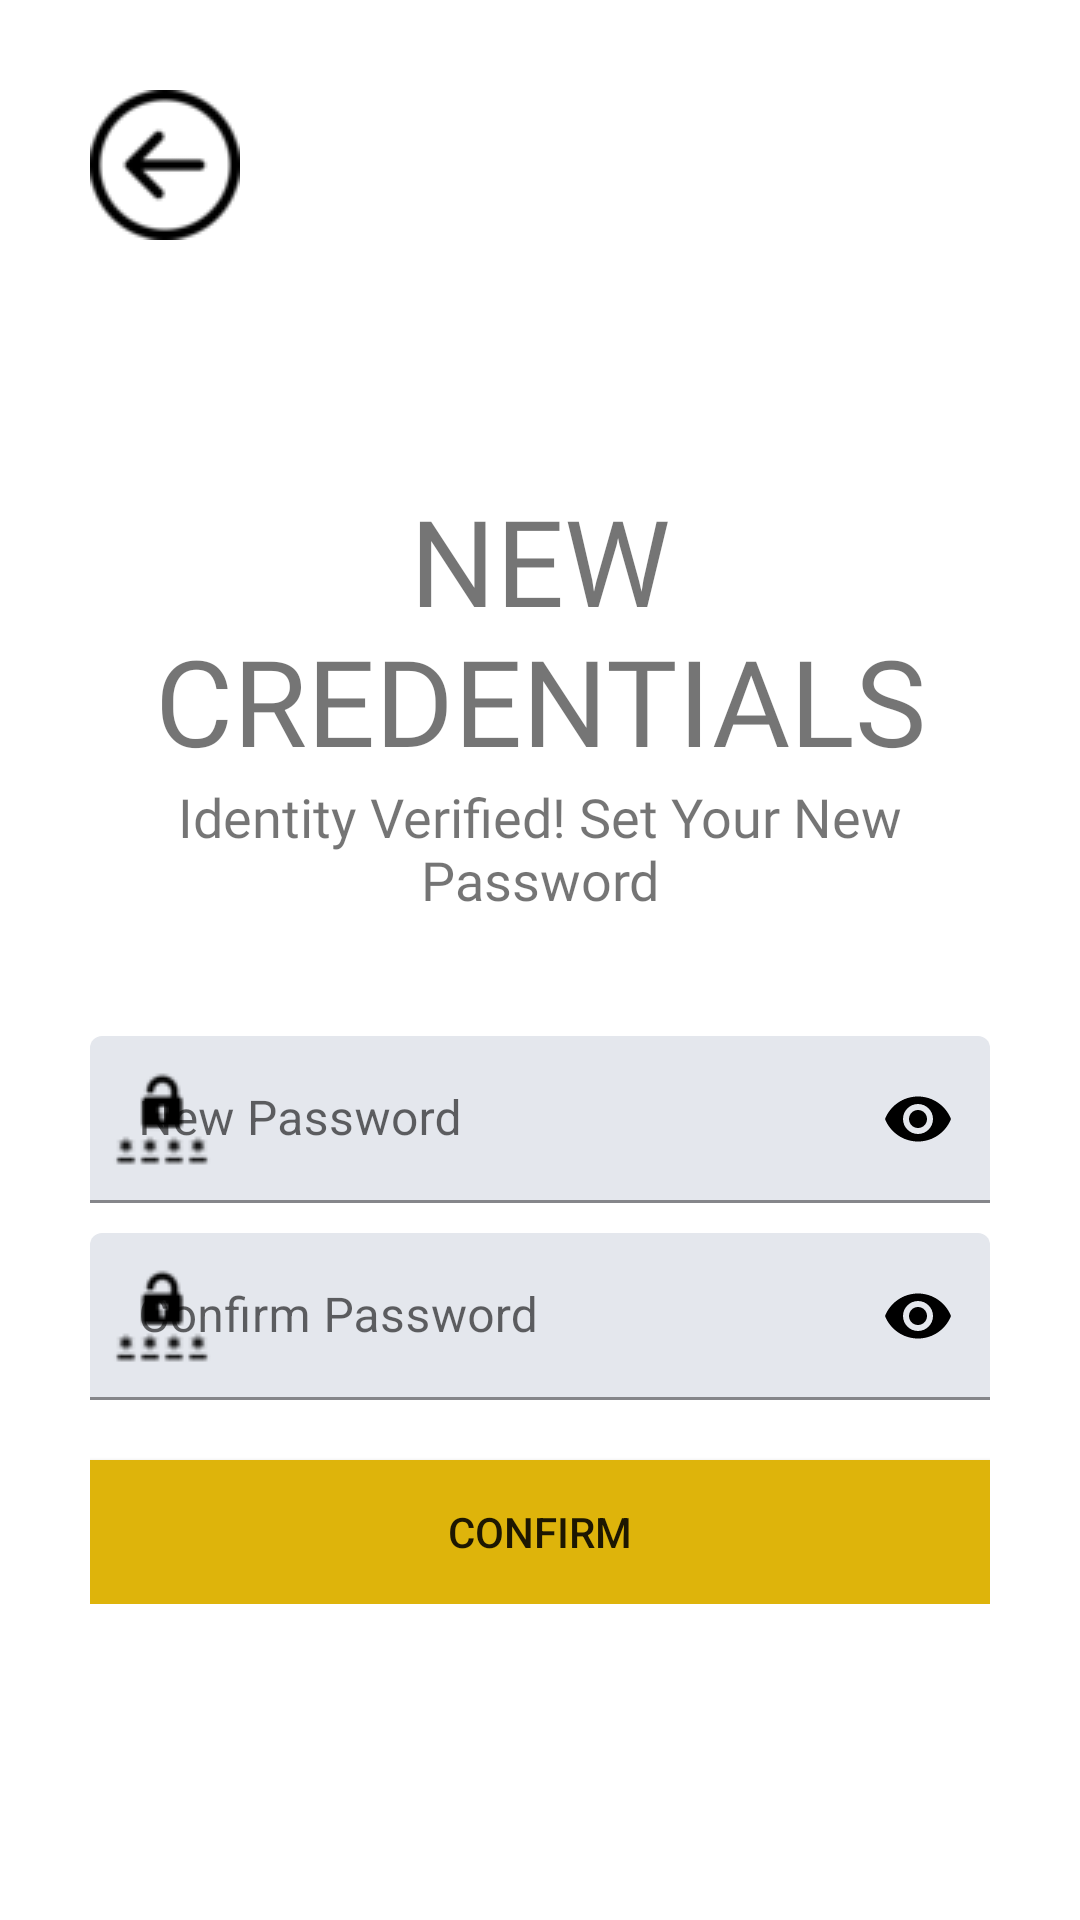

Icon click points for this 1080px x 1920px phone screenshot, format (x=x, y=y):
back: (x=165, y=165)
